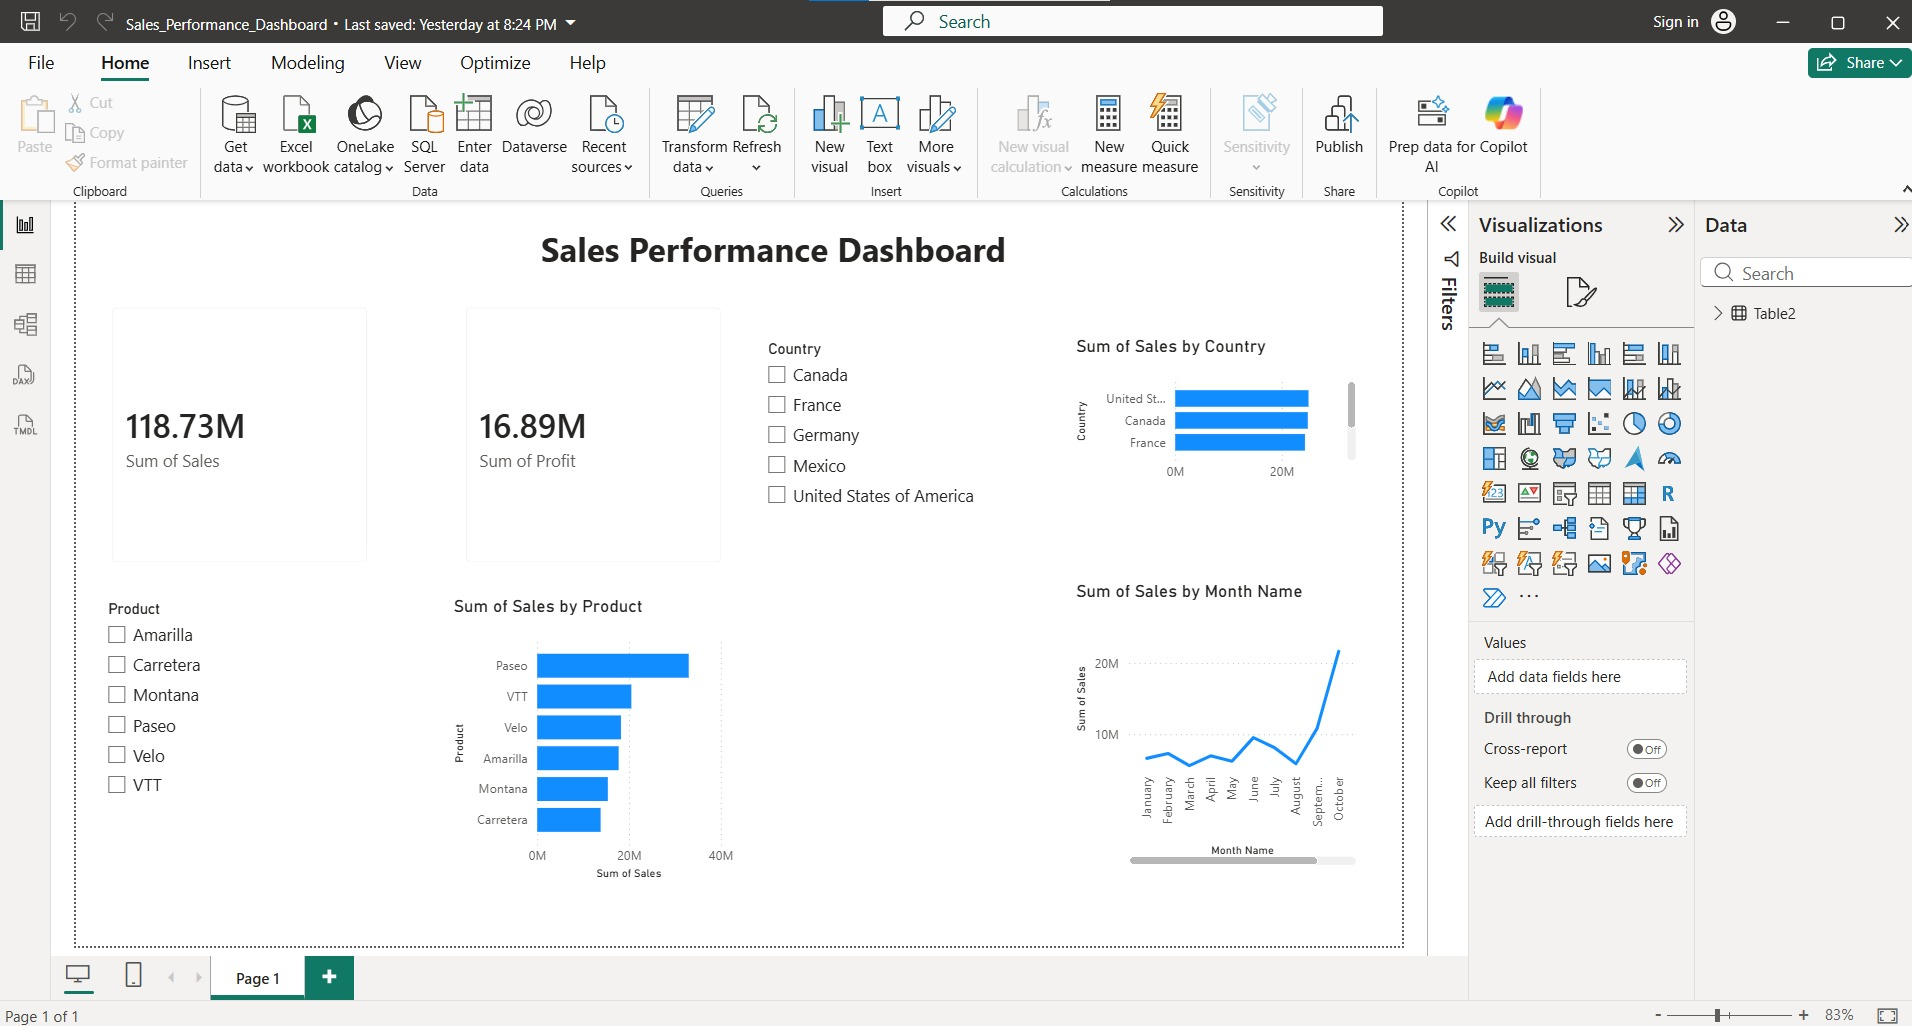

Layout of this report page (visuals, bound fields, positions):
{"tool":"powerbi","page":{"name":"Page 1","canvas":[1280,720],"ordinal":0},"visuals":[{"type":"cardVisual","fields":{"Data":["Sum(Table2. Sales)"]},"box":[18.1,86.9,280,280],"z":0},{"type":"cardVisual","fields":{"Data":["Sum(Table2.Profit)"]},"box":[359.5,86.9,280,280],"z":1000},{"type":"clusteredBarChart","fields":{"Category":["Table2.Product"],"Y":["Sum(Table2. Sales)"]},"box":[359.5,381.2,280,280],"z":2000},{"type":"clusteredBarChart","fields":{"Category":["Table2.Country"],"Y":["Sum(Table2. Sales)"]},"box":[960.3,130.3,280,150],"z":3000},{"type":"lineChart","fields":{"Category":["Table2.Month Name"],"Y":["Sum(Table2. Sales)"]},"box":[960.3,366.8,280,280],"z":4000},{"type":"slicer","fields":{"Values":["Table2.Country"]},"box":[655.1,130.3,279.9,250.9],"z":5000},{"type":"slicer","fields":{"Values":["Table2.Product"]},"box":[18.1,381.2,280,280],"z":6000},{"type":"textbox","box":[401.1,20.6,545.4,65.9],"z":7000}]}

Visuals, with their boxes on the page's 1280x720 design canvas (x1, y1, x2, y2). These are canvas units, not pixel positions in the 1912x1026 screenshot, which may show the page scaled, cropped or inside an application window:
cardVisual - Sum(Table2. Sales): l=18, t=87, r=298, b=367
cardVisual - Sum(Table2.Profit): l=360, t=87, r=640, b=367
clusteredBarChart - Table2.Product x Sum(Table2. Sales): l=360, t=381, r=640, b=661
clusteredBarChart - Table2.Country x Sum(Table2. Sales): l=960, t=130, r=1240, b=280
lineChart - Table2.Month Name x Sum(Table2. Sales): l=960, t=367, r=1240, b=647
slicer - Table2.Country: l=655, t=130, r=935, b=381
slicer - Table2.Product: l=18, t=381, r=298, b=661
textbox: l=401, t=21, r=946, b=86
